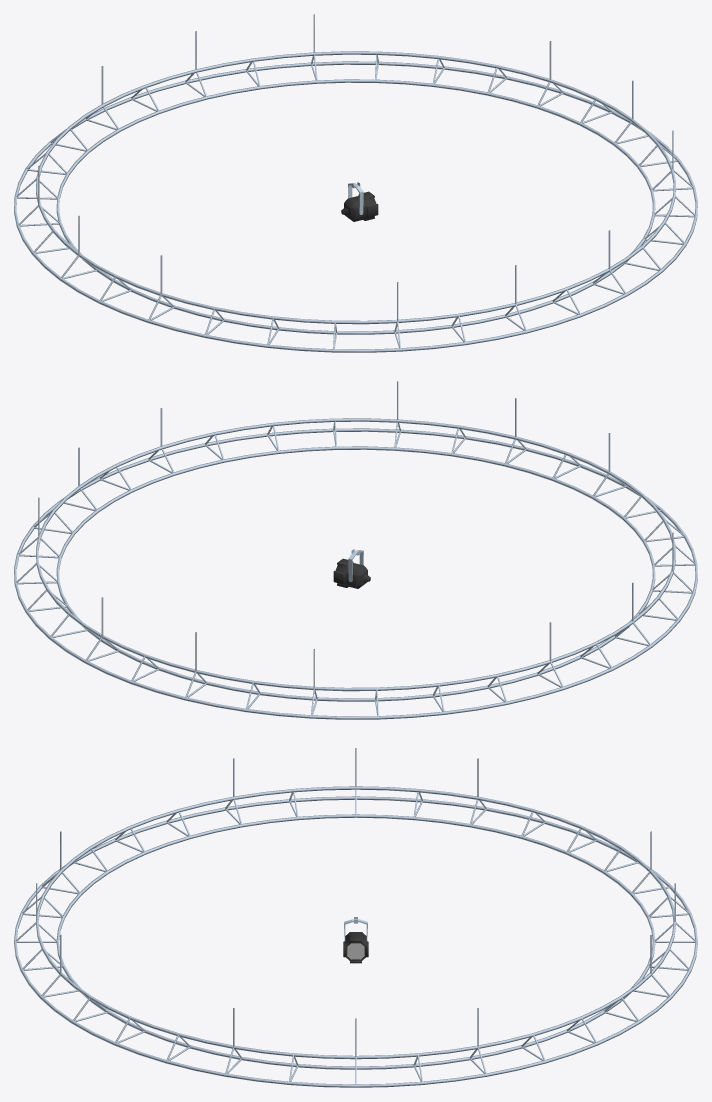
The model's file is lamps.fbx.
3 views of the same model, one above another, from view 1: azimuth 30°, elevation 25°; view 2: azimuth 150°, elevation 25°; view 3: azimuth 270°, elevation 25° (orthographic).
Parts seen in each view (by area): view 1: cornice, lamp; view 2: cornice, lamp; view 3: cornice, lamp.
Boxes of the visible parts, x1,y1,x2,y2 form: cornice: (14, 14, 697, 352); lamp: (341, 191, 378, 221); cornice: (14, 381, 697, 719); lamp: (333, 558, 370, 588); cornice: (14, 748, 697, 1087); lamp: (343, 932, 368, 963).
Bounding box in the file's own units: 16.06 × 1.87 × 16.06.
